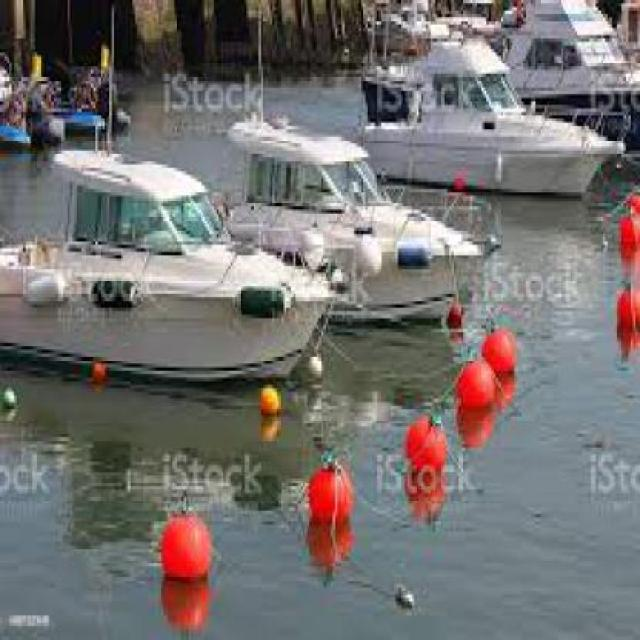a: (153, 481, 220, 610), (294, 448, 370, 557), (403, 396, 457, 494), (444, 346, 507, 428)
